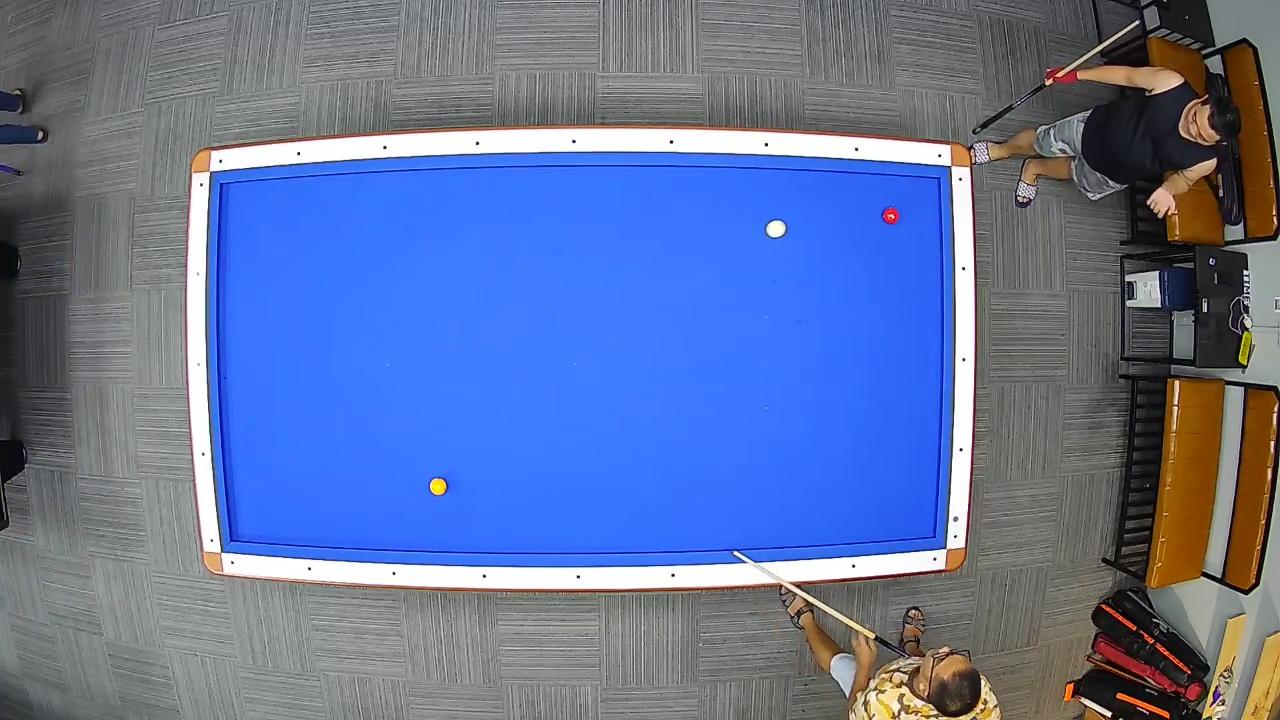Red: (881, 204, 900, 224), (428, 478, 449, 496)
White: (764, 218, 788, 240)
